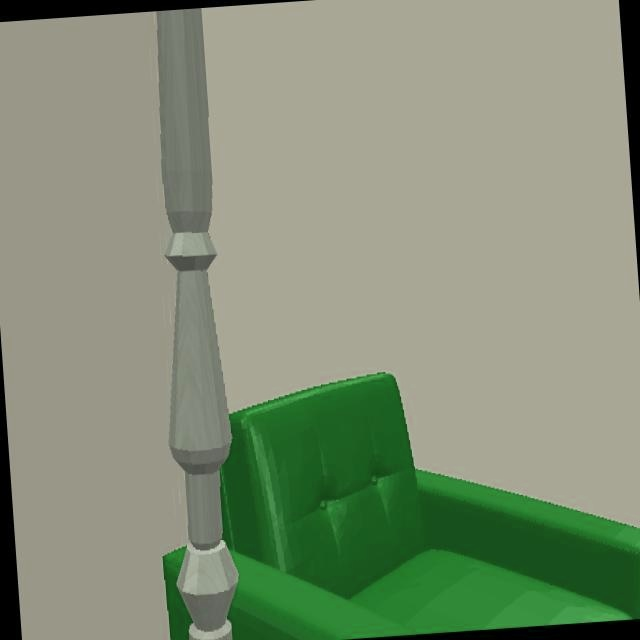sofa: (217, 372, 640, 640)
